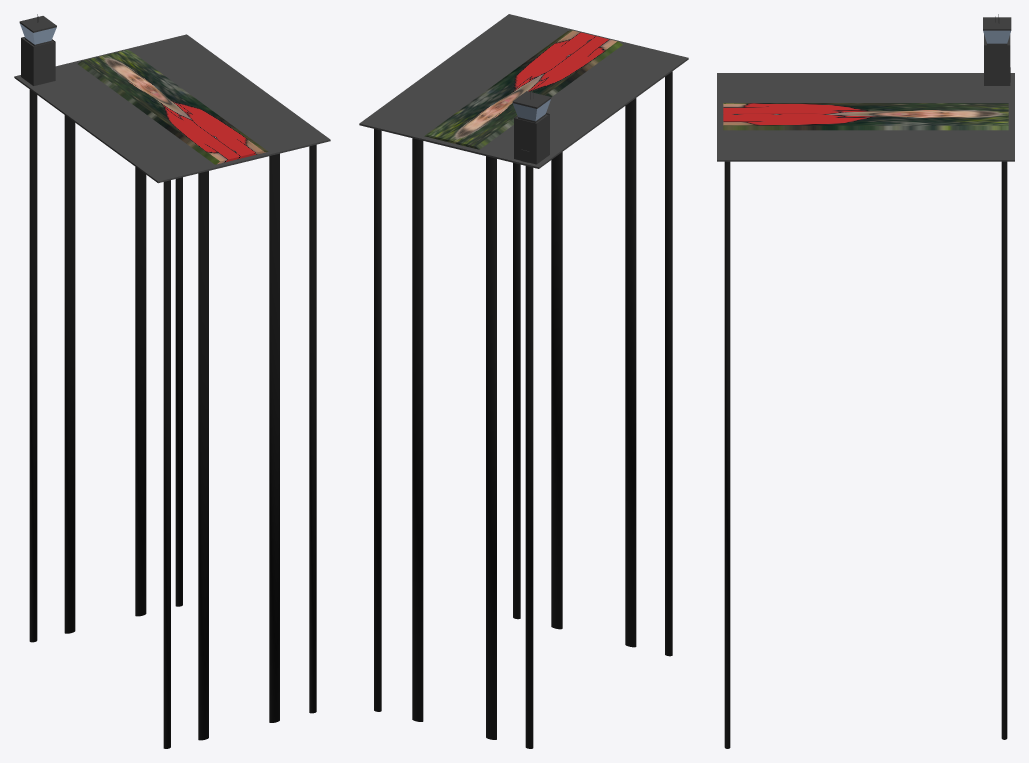
Rendered from runway.gltf.
The picture shows the model from 3 angles, left to right: view 1: azimuth 30°, elevation 25°; view 2: azimuth 150°, elevation 25°; view 3: azimuth 270°, elevation 25°; orthographic projection. The views are drawn at different scales.
Parts seen in each view (by area): view 1: Cylinder.003, Plane.001, Plane, Cube_Cube.001; view 2: Cylinder.003, Plane.001, Plane, Cube_Cube.001; view 3: Plane.001, Cylinder.003, Plane, Cube_Cube.001.
Part boxes in pixels (x1,y1,x2,y2): Cylinder.003: [29, 89, 316, 748]; Plane.001: [14, 34, 330, 183]; Plane: [78, 50, 268, 164]; Cube_Cube.001: [21, 37, 55, 85]; Cylinder.003: [374, 71, 672, 748]; Plane.001: [359, 14, 688, 168]; Plane: [424, 30, 622, 149]; Cube_Cube.001: [514, 113, 549, 164]; Plane.001: [717, 73, 1014, 161]; Cylinder.003: [724, 161, 1007, 748]; Plane: [723, 103, 1008, 130]; Cube_Cube.001: [984, 34, 1010, 85].
Bounding box in the file's own units: 43.26 × 153 × 62.45.
5 materials, 1 textured.
